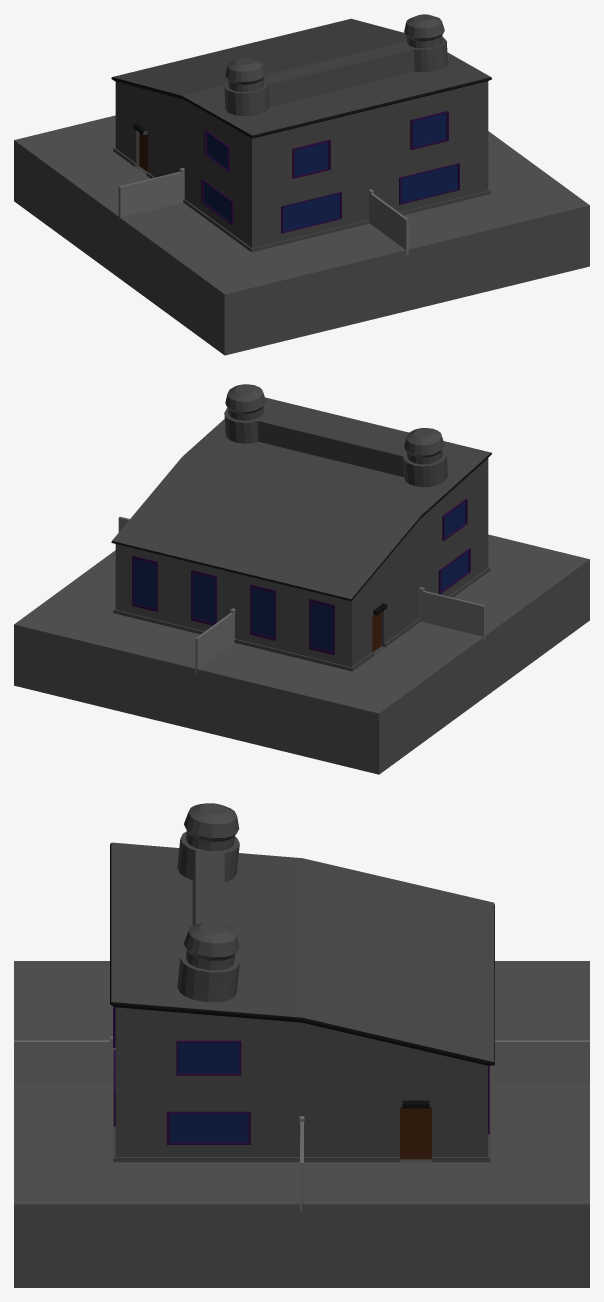
Rendered from House3.fbx.
3 views of the same model, one above another, from view 1: azimuth 30°, elevation 25°; view 2: azimuth 150°, elevation 25°; view 3: azimuth 270°, elevation 25° (orthographic). The views are drawn at different scales.
Visible parts, largest first — view 1: Plane.001, WallR.005, WallR.002; view 2: Plane.001, WallR.005, WallR.003; view 3: Plane.001, WallR.002, WallR.003.
Part boxes in pixels (x1=…): Plane.001: x1=14, y1=14, x2=589, y2=355; WallR.005: x1=118, y1=168, x2=184, y2=221; WallR.002: x1=368, y1=189, x2=408, y2=254; Plane.001: x1=14, y1=384, x2=589, y2=774; WallR.005: x1=419, y1=587, x2=485, y2=641; WallR.003: x1=195, y1=608, x2=235, y2=673; Plane.001: x1=14, y1=803, x2=589, y2=1287; WallR.002: x1=14, y1=1036, x2=115, y2=1083; WallR.003: x1=489, y1=1040, x2=589, y2=1083.
Bounding box in the file's own units: 3751 × 3751 × 2147.
